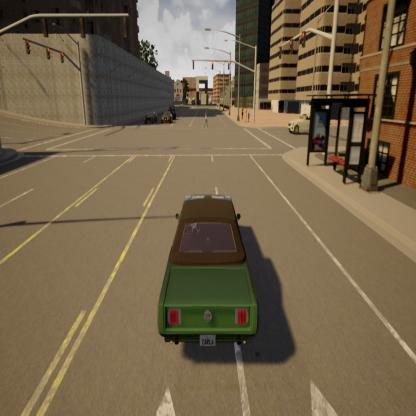Cars: (129, 157, 275, 364), (287, 102, 331, 144), (137, 104, 158, 130), (161, 103, 178, 135)
Pedestrian: (204, 102, 213, 142)
